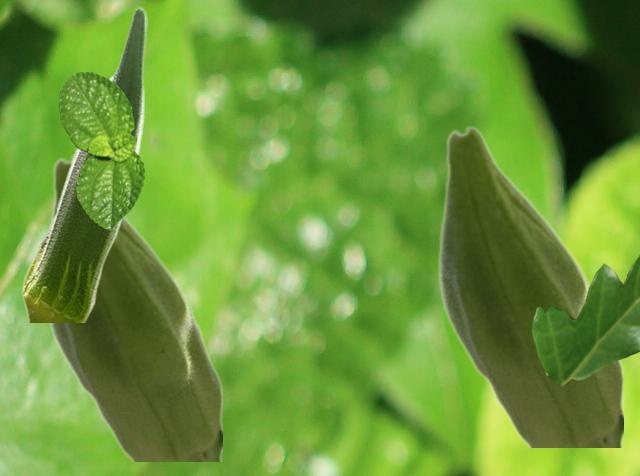okra: (437, 125, 622, 446), (48, 153, 221, 460), (21, 5, 146, 321)
